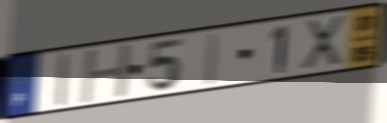1: (270, 23, 288, 74)
5: (146, 36, 186, 94)
H: (78, 41, 135, 106)
I: (201, 30, 223, 89), (54, 51, 71, 110)
X: (299, 13, 347, 71)
